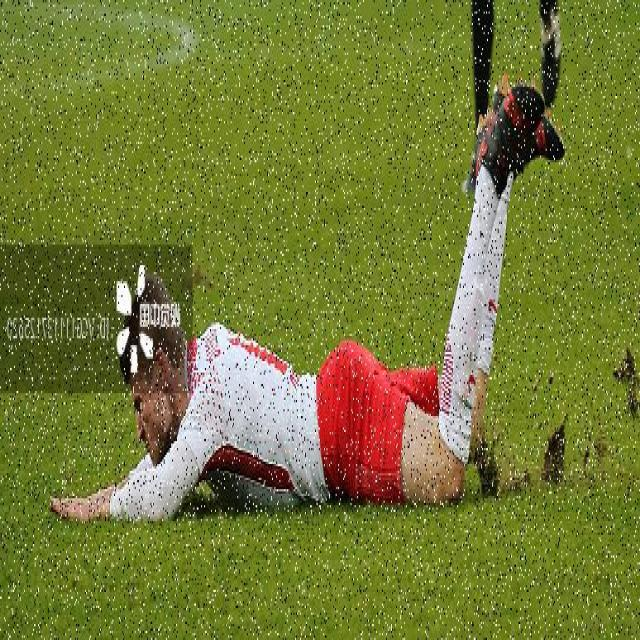fall: (80, 94, 556, 538)
